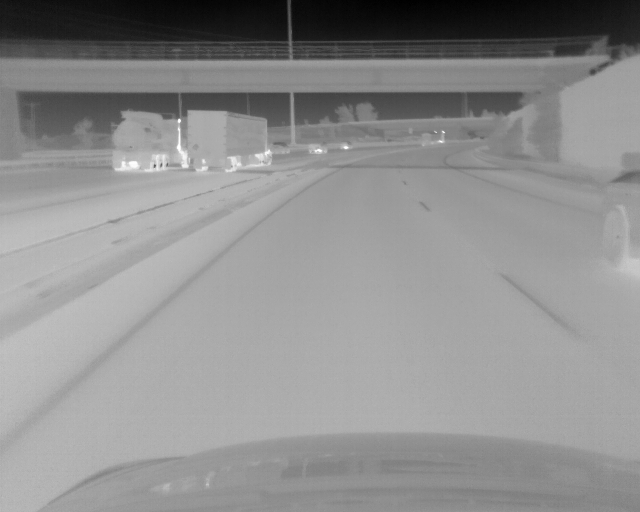car: (188, 109, 275, 172), (109, 110, 190, 170), (600, 169, 640, 271), (421, 130, 446, 147), (272, 141, 289, 155), (309, 142, 326, 154), (339, 142, 352, 151)
